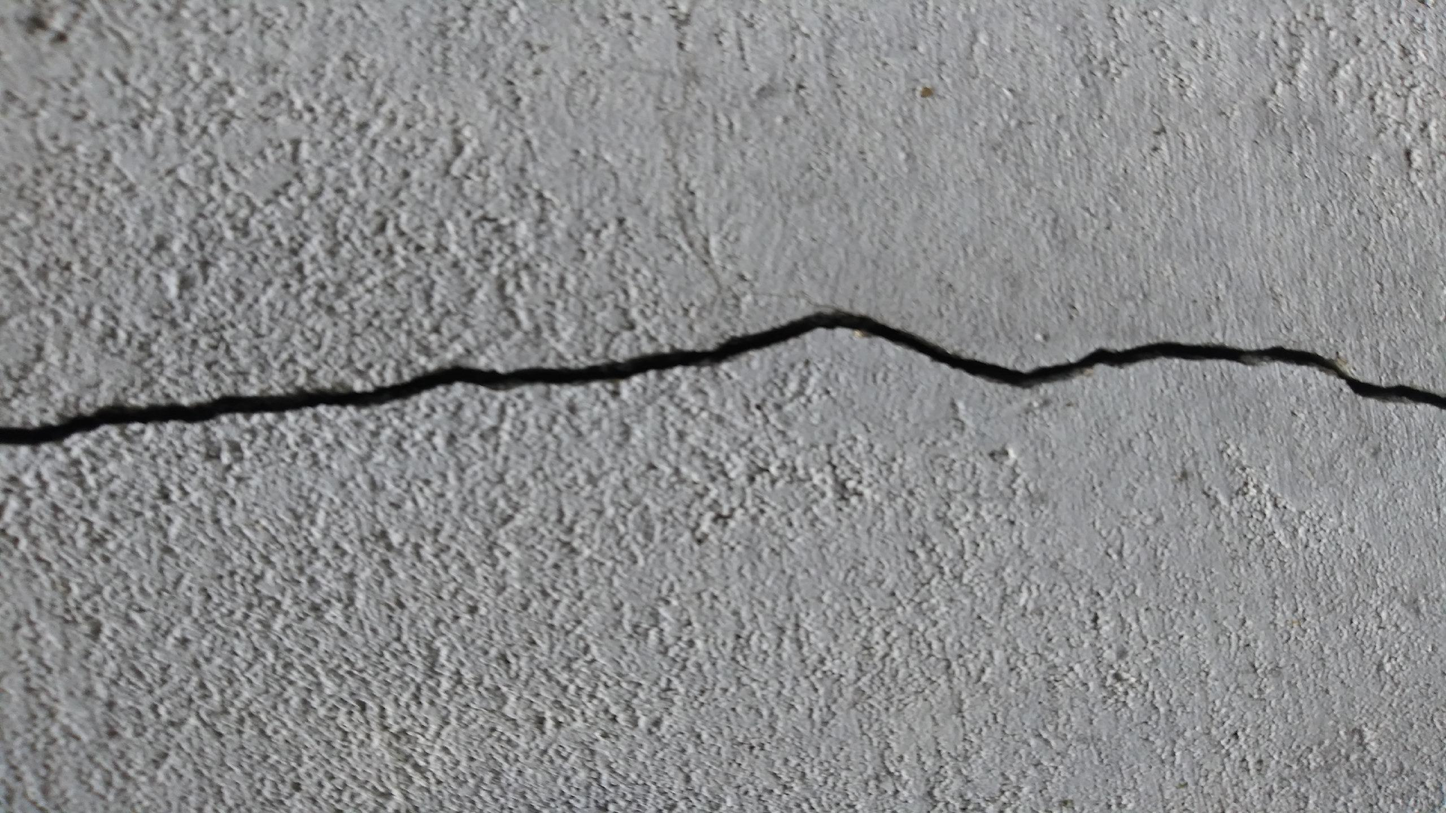crack: (8, 299, 1445, 454)
